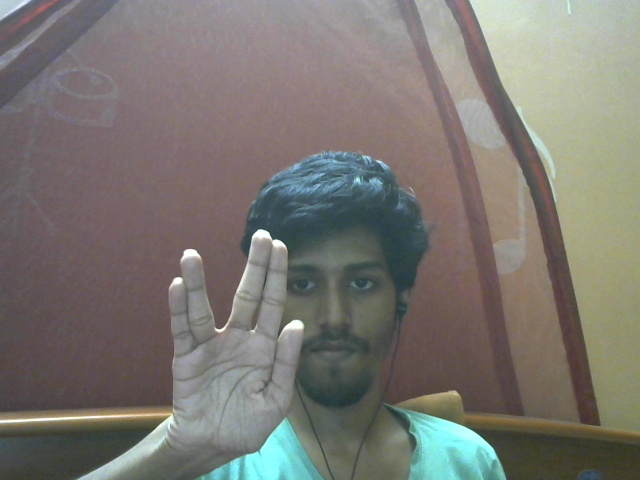LiveLong: (167, 227, 305, 460)
